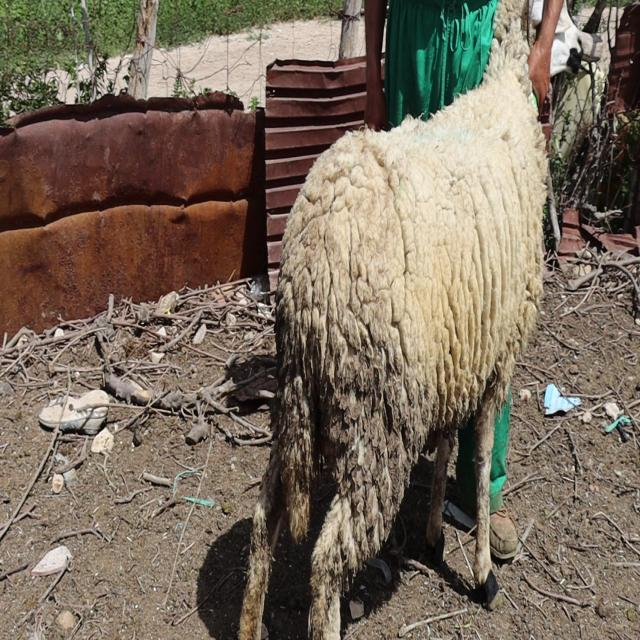Score_3: (239, 0, 550, 639)
